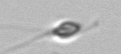plankton: (36, 16, 89, 45)
